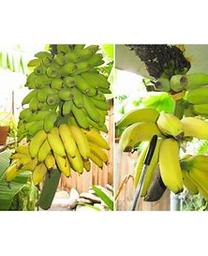banana: (4, 43, 113, 208), (116, 77, 207, 198)
